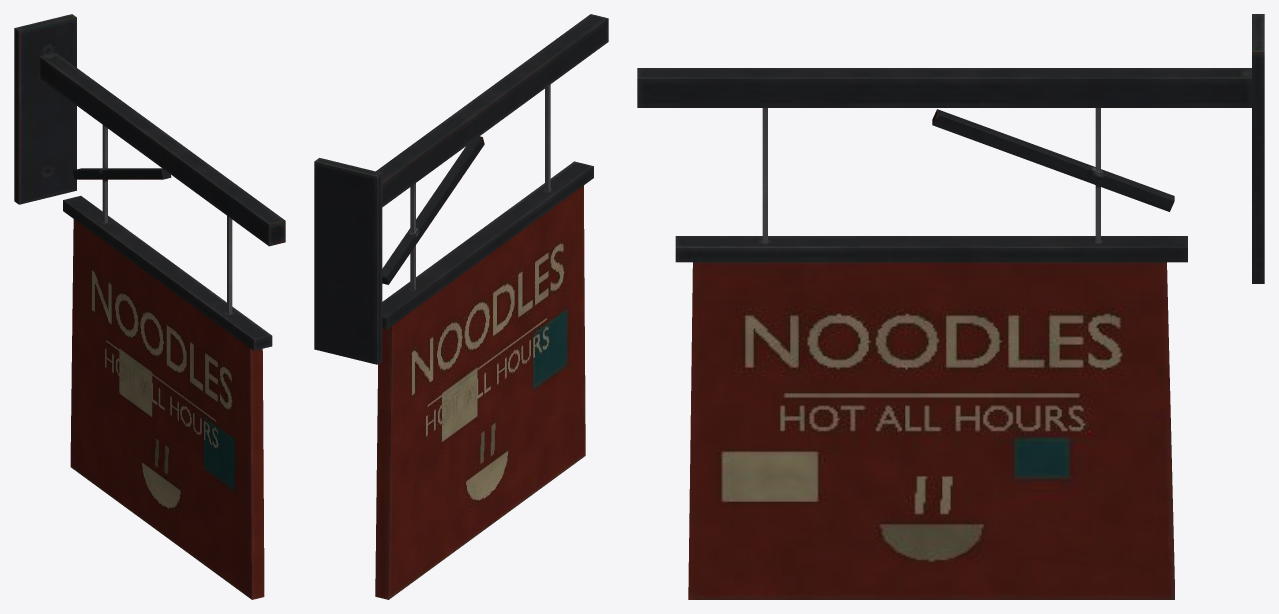
File: shop_sign_noodles.glb
3 views of the same model, side by side, from view 1: azimuth 30°, elevation 25°; view 2: azimuth 150°, elevation 25°; view 3: azimuth 270°, elevation 25° (orthographic). The views are drawn at different scales.
Visible parts, largest first — view 1: shop_sign_noodles; view 2: shop_sign_noodles; view 3: shop_sign_noodles.
Part boxes in pixels (x1,y1,x2,y2): shop_sign_noodles: [14, 14, 285, 599]; shop_sign_noodles: [314, 14, 608, 599]; shop_sign_noodles: [637, 14, 1264, 599].
Bounding box in the file's own units: 0.14 × 0.97 × 0.98.
1 material, 1 textured.
